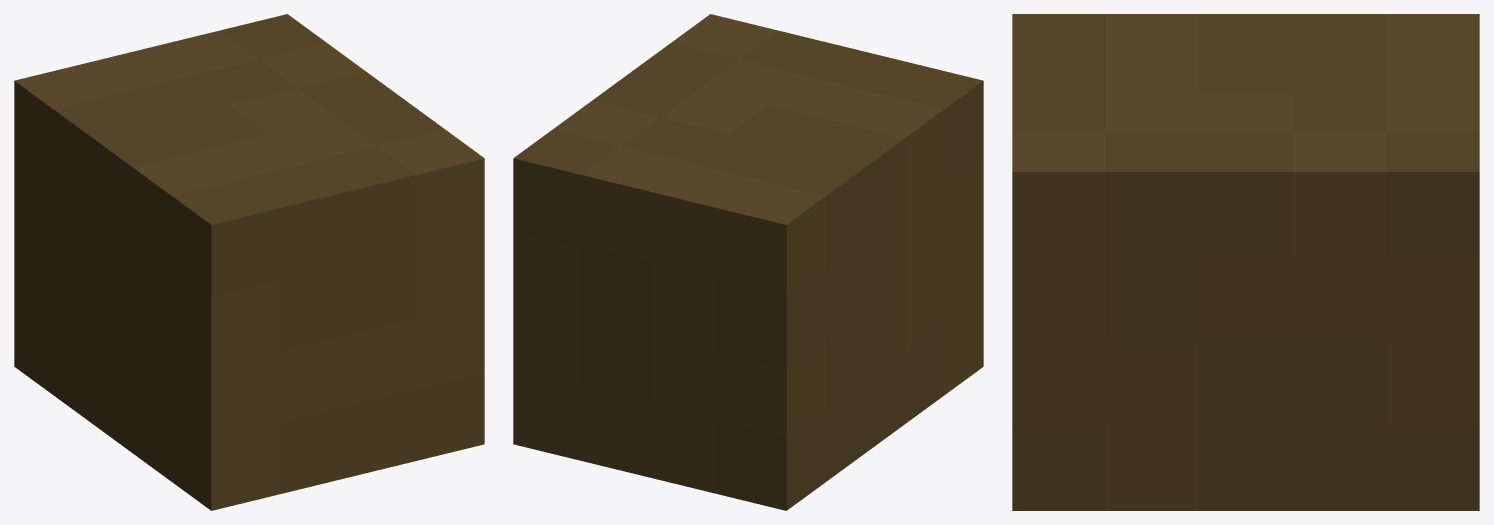
The model's file is tavern-10-roof_flatsq5px.obj.
3 views of the same model, side by side, from view 1: azimuth 30°, elevation 25°; view 2: azimuth 150°, elevation 25°; view 3: azimuth 270°, elevation 25° (orthographic). The views are drawn at different scales.
Visible parts, largest first — view 1: roof_flatsq5px; view 2: roof_flatsq5px; view 3: roof_flatsq5px.
Part boxes in pixels (left/top/right/bottom): roof_flatsq5px: left=14, top=14, right=484, bottom=510; roof_flatsq5px: left=513, top=14, right=983, bottom=510; roof_flatsq5px: left=1012, top=14, right=1479, bottom=510.
Bounding box in the file's own units: 0.4 × 0.4 × 0.5.
1 material, 1 textured.
